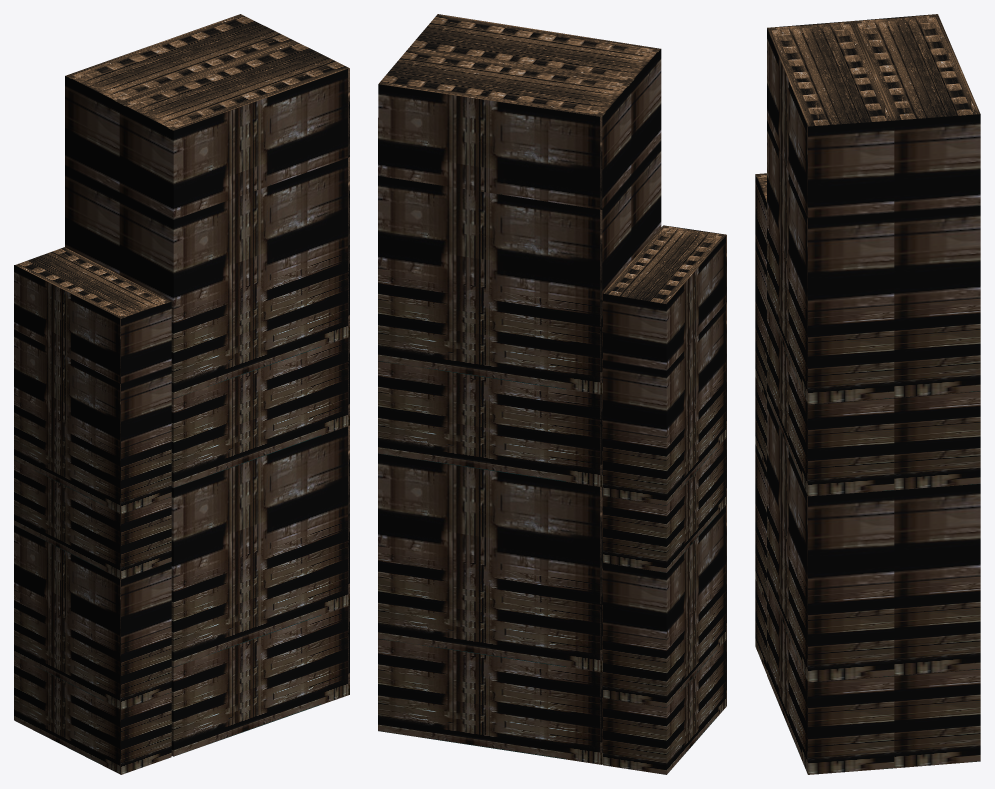
The model's file is City_Building009.fbx.
3 views of the same model, side by side, from view 1: azimuth 30°, elevation 25°; view 2: azimuth 150°, elevation 25°; view 3: azimuth 270°, elevation 25° (orthographic). The views are drawn at different scales.
Visible parts, largest first — view 1: City_Building_009:Building_009; view 2: City_Building_009:Building_009; view 3: City_Building_009:Building_009.
Part boxes in pixels (<box>): City_Building_009:Building_009: <box>14,14,349,774</box>; City_Building_009:Building_009: <box>378,14,726,774</box>; City_Building_009:Building_009: <box>755,14,980,774</box>.
Bounding box in the file's own units: 1683 × 3620 × 1140.
1 material, 1 textured.
